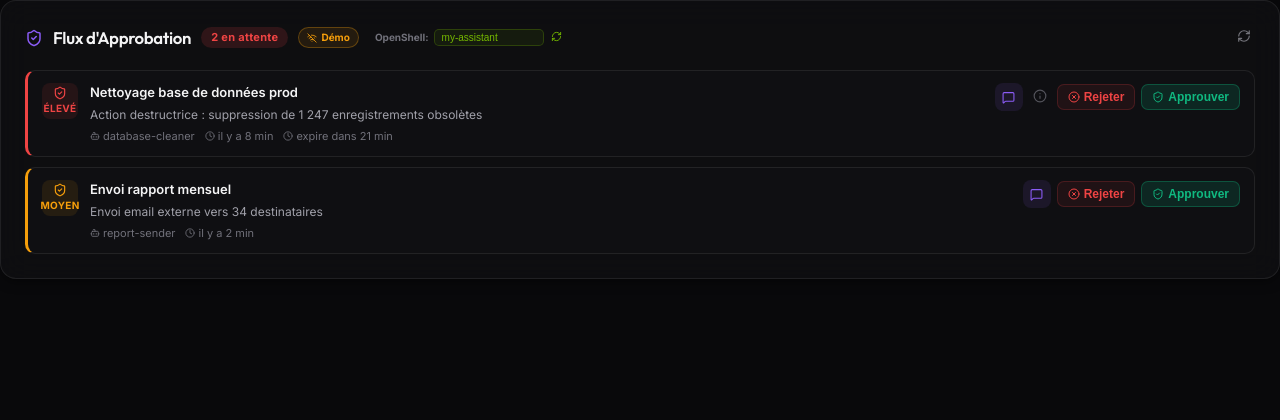
ApprovalsWidget — payload expansion › info button toggles payload details
expect the text "Nettoyage base de données prod" is shown: met, box [90, 84, 298, 100]
Step 1. Click the button titled "Détails" → (1040,97), box [1029, 85, 1051, 110]
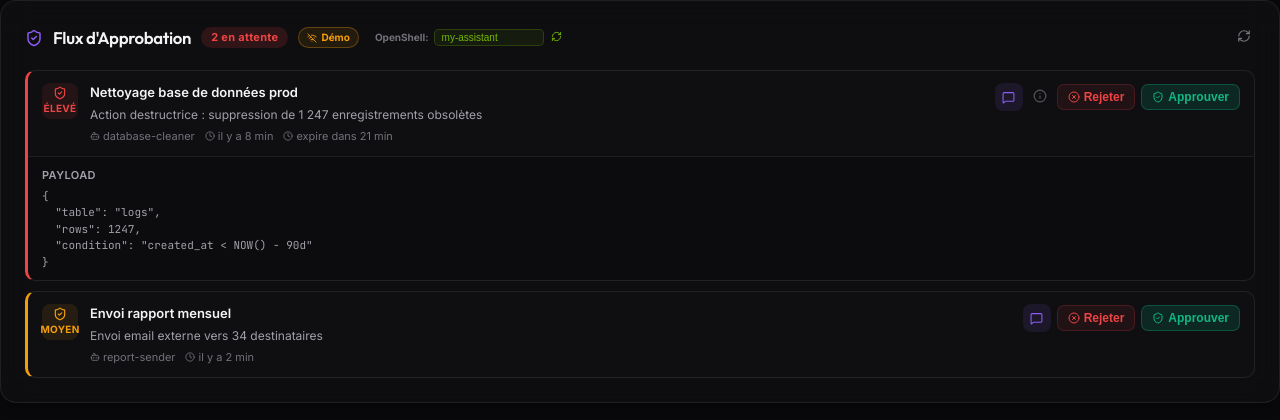
expect the text "Payload" is shown: met, box [42, 168, 96, 182]
